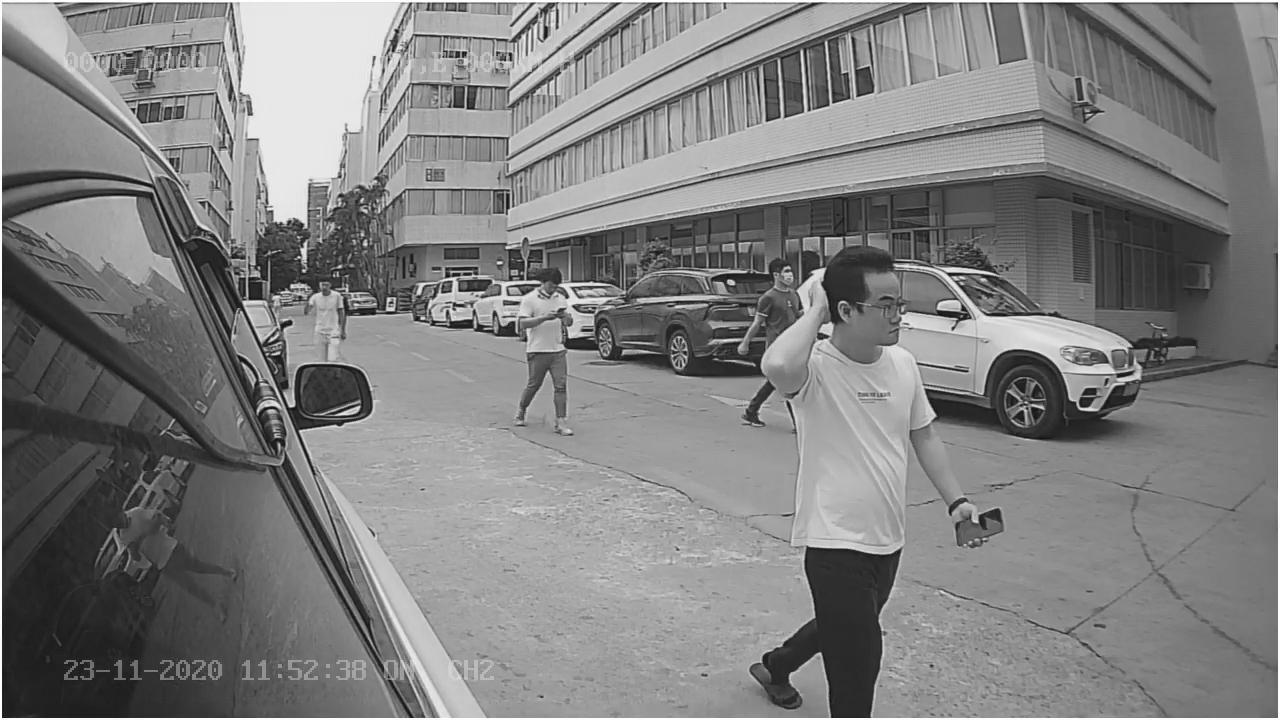person: (776, 247, 949, 710)
